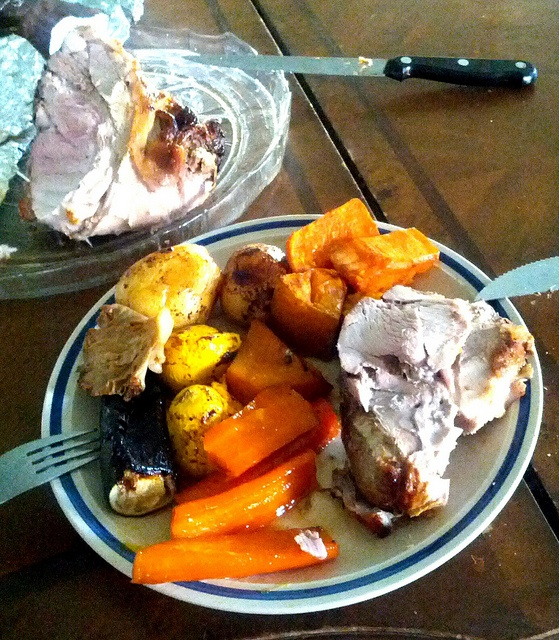cake: (21, 32, 244, 272), (0, 33, 49, 239)
